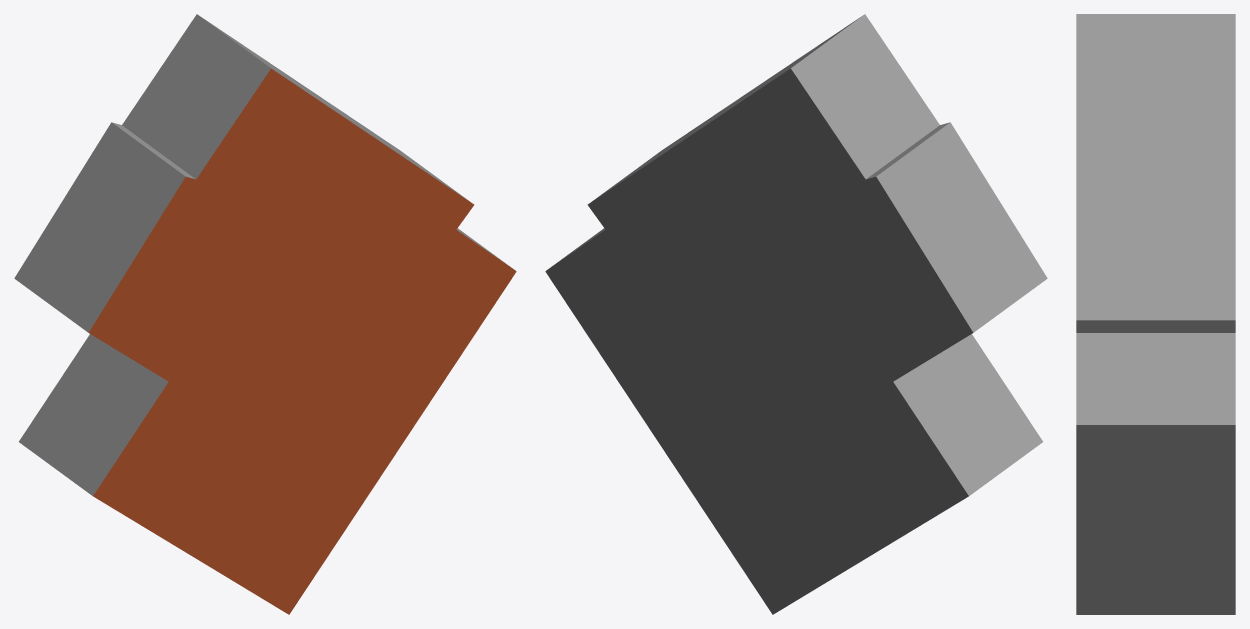
Rendered from construction_4381_assumed_A_Casa_h6m.obj.
The picture shows the model from 3 angles, left to right: view 1: azimuth 30°, elevation 25°; view 2: azimuth 150°, elevation 25°; view 3: azimuth 270°, elevation 25°; orthographic projection. The views are drawn at different scales.
Parts seen in each view (by area): view 1: construction_4381_assumed_A_Casa; view 2: construction_4381_assumed_A_Casa; view 3: construction_4381_assumed_A_Casa.
Boxes of the visible parts, bbox=[...] form: construction_4381_assumed_A_Casa: bbox=[14, 14, 516, 614]; construction_4381_assumed_A_Casa: bbox=[545, 14, 1047, 614]; construction_4381_assumed_A_Casa: bbox=[1076, 14, 1235, 614].
Size of the model in its own units: 19.97 by 24.55 by 6.
